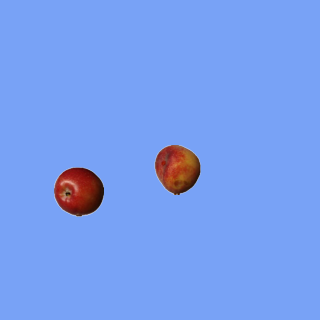Apple Braeburn: (53, 166, 103, 216)
Peach: (152, 144, 202, 194)
